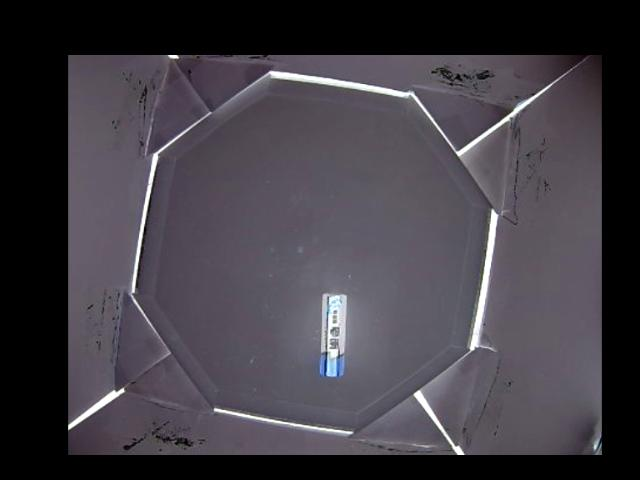Battery: (320, 292, 345, 380)
